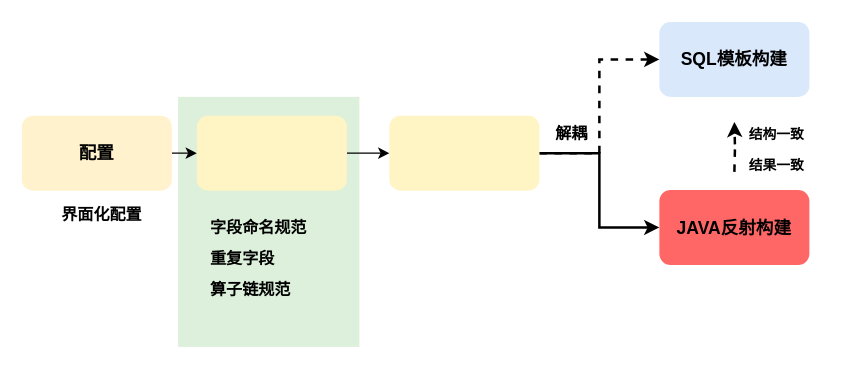
Some shapes in this 843 by 368 pixel diagram are drawn without their labels. The shapes that lost their labels are listed below. From the top down, each one's centre as x and y in pixels, then its label:
At point (271, 152): "规则校验".
At point (464, 152): "抽象构建".
